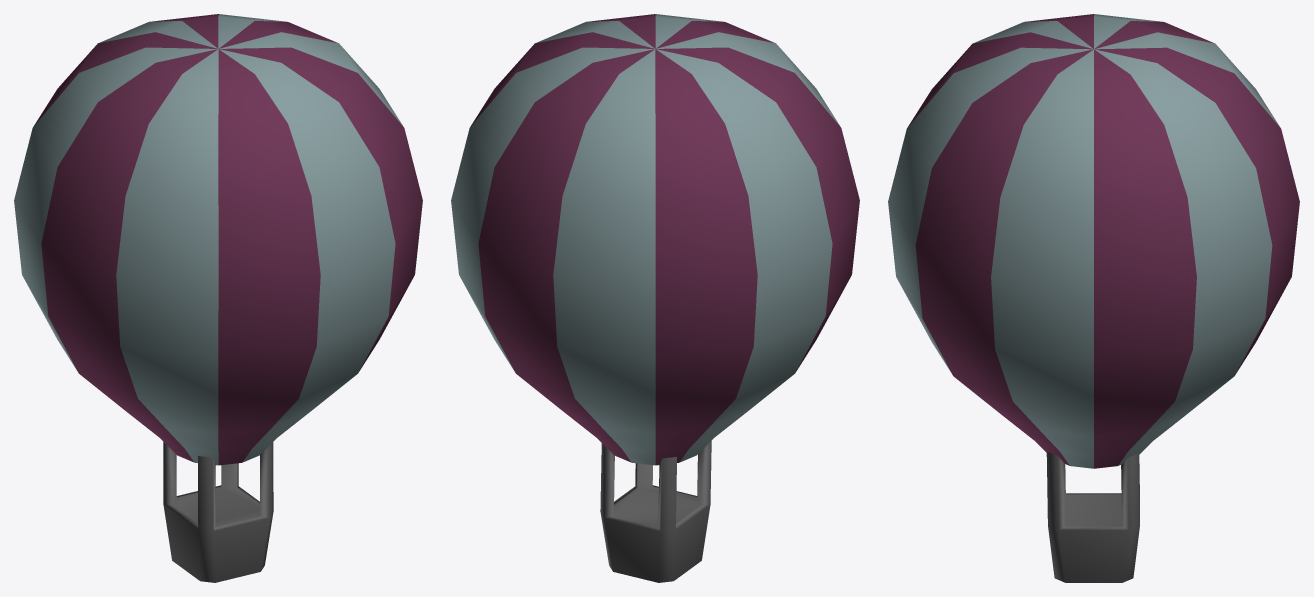
The model's file is SM_Balloon_01.fbx.
3 renders of one model, left to right at view 1: azimuth 30°, elevation 25°; view 2: azimuth 150°, elevation 25°; view 3: azimuth 270°, elevation 25°, orthographic.
Parts seen in each view (by area): view 1: pSphere25; view 2: pSphere25; view 3: pSphere25.
Boxes of the visible parts, x1,y1,x2,y2 form: pSphere25: (14,14,422,582); pSphere25: (451,14,859,582); pSphere25: (888,14,1299,582).
Size of the model in its own units: 714 by 714 by 993.
